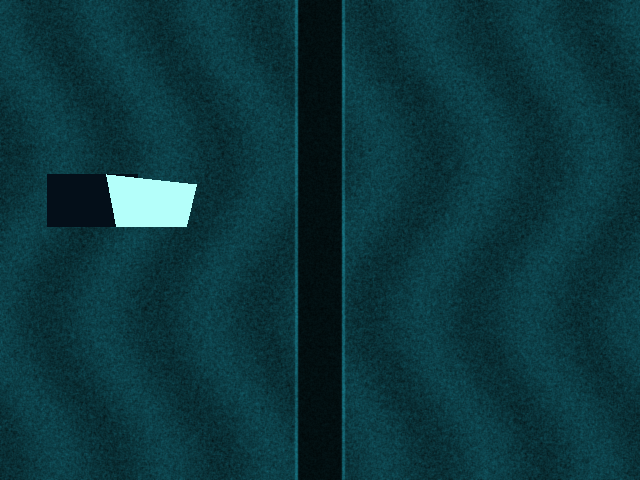Other Man-made Debris: (106, 174, 196, 226)
